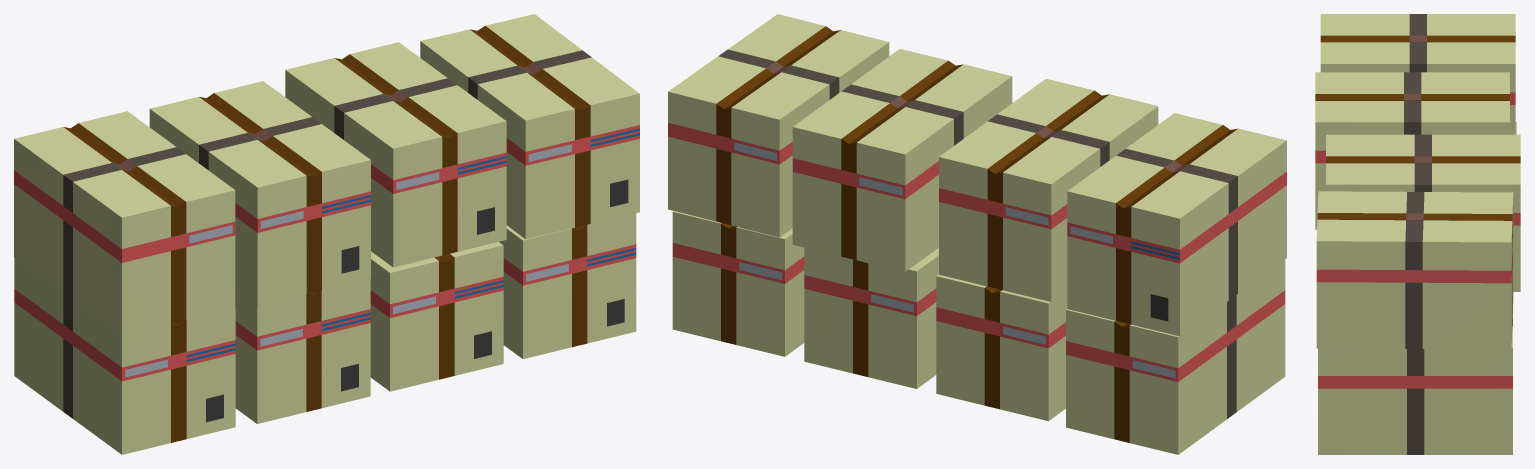
Rendered from SM_BoxesSet_B.fbx.
The picture shows the model from 3 angles, left to right: view 1: azimuth 30°, elevation 25°; view 2: azimuth 150°, elevation 25°; view 3: azimuth 270°, elevation 25°; orthographic projection. The views are drawn at different scales.
Parts seen in each view (by area): view 1: SM_BoxesSet_B; view 2: SM_BoxesSet_B; view 3: SM_BoxesSet_B.
Part boxes in pixels (bbox=[...]): SM_BoxesSet_B: bbox=[14, 14, 639, 454]; SM_BoxesSet_B: bbox=[668, 14, 1286, 454]; SM_BoxesSet_B: bbox=[1315, 14, 1520, 454].
Bounding box in the file's own units: 281 × 123 × 107.
